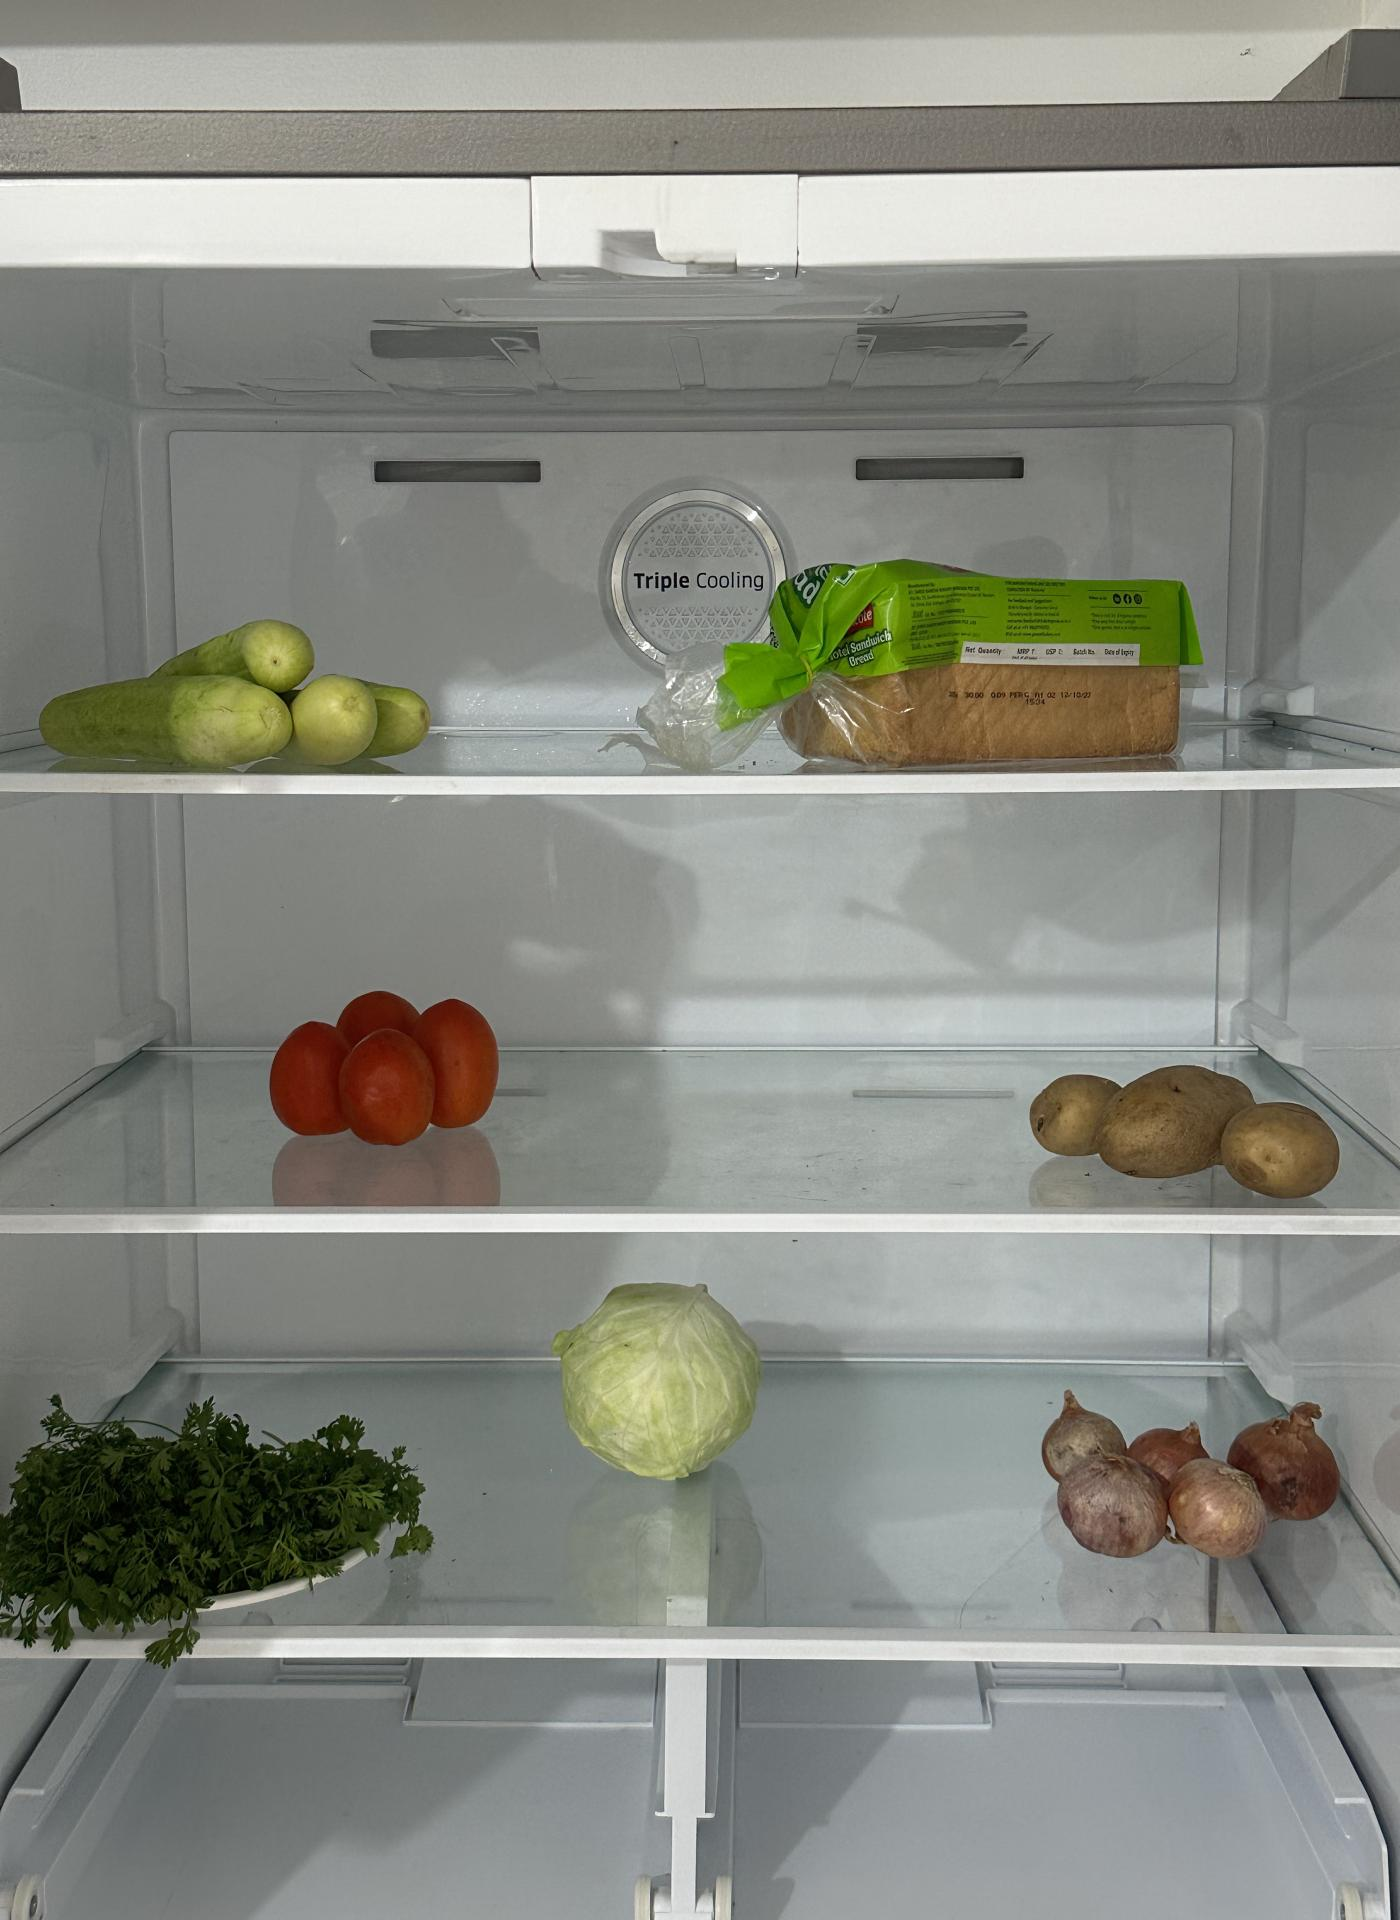bread: (772, 538, 1197, 765)
cabbage: (555, 1273, 762, 1485)
coriander: (28, 1389, 417, 1622)
cucumber: (37, 619, 440, 769)
onion: (1038, 1383, 1343, 1564)
potato: (1023, 1055, 1345, 1206)
tomato: (267, 984, 501, 1142)
